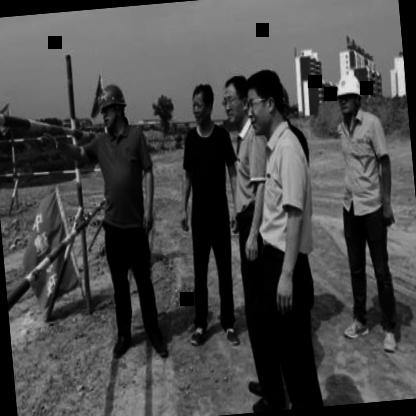head: (240, 62, 295, 139), (218, 74, 251, 129), (186, 79, 219, 126)
helmet: (91, 80, 131, 138), (332, 70, 366, 124)
